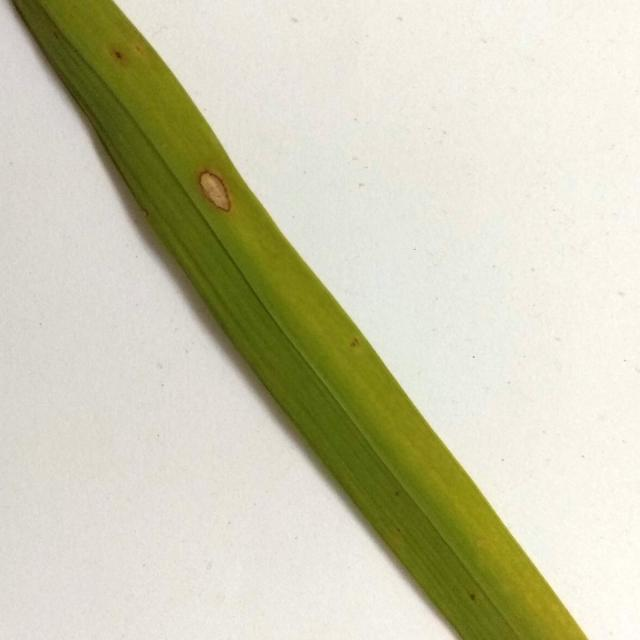Leaf_Blast: (167, 134, 272, 267), (74, 2, 177, 128)
